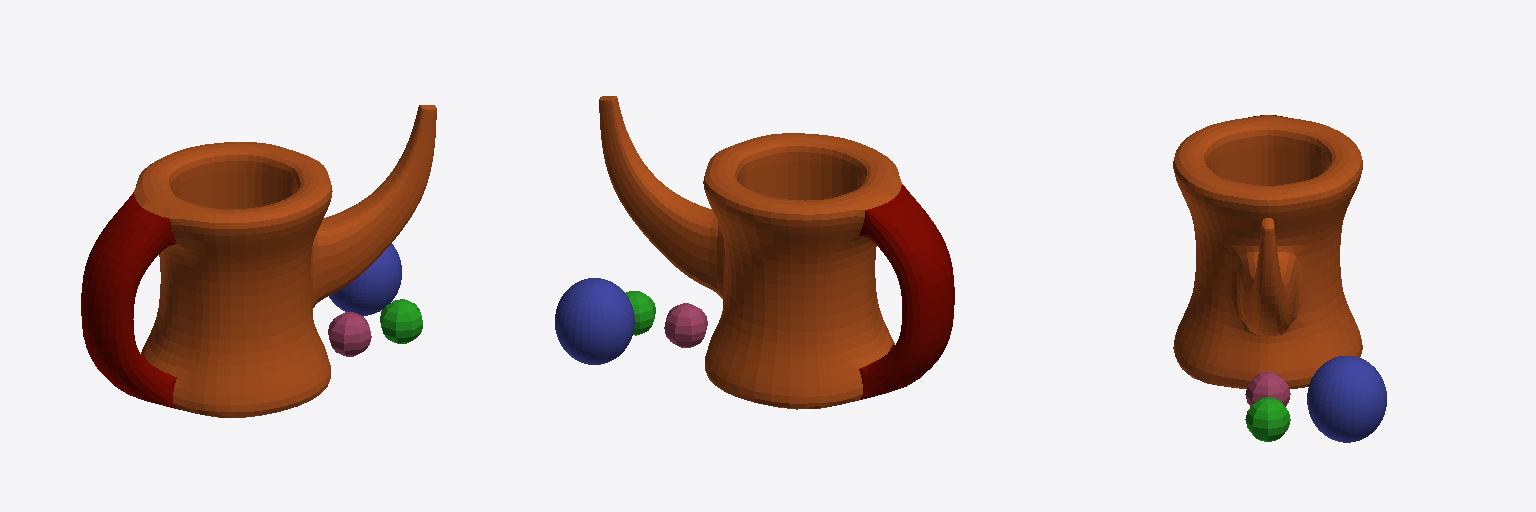
3 renders of one model, left to right at view 1: azimuth 30°, elevation 25°; view 2: azimuth 150°, elevation 25°; view 3: azimuth 270°, elevation 25°, orthographic.
Visible parts, largest first — view 1: Holder_Cylinder, Sphere_3_Sphere.002, Sphere_1_Sphere, Sphere_2_Sphere.001; view 2: Holder_Cylinder, Sphere_3_Sphere.002, Sphere_1_Sphere, Sphere_2_Sphere.001; view 3: Holder_Cylinder, Sphere_3_Sphere.002, Sphere_2_Sphere.001, Sphere_1_Sphere.
Boxes of the visible parts, x1=… form: Holder_Cylinder: x1=81, y1=105, x2=436, y2=417; Sphere_3_Sphere.002: x1=329, y1=243, x2=401, y2=315; Sphere_1_Sphere: x1=328, y1=312, x2=371, y2=356; Sphere_2_Sphere.001: x1=380, y1=299, x2=422, y2=343; Holder_Cylinder: x1=599, y1=96, x2=954, y2=409; Sphere_3_Sphere.002: x1=555, y1=278, x2=634, y2=364; Sphere_1_Sphere: x1=664, y1=303, x2=707, y2=347; Sphere_2_Sphere.001: x1=625, y1=291, x2=655, y2=335; Holder_Cylinder: x1=1173, y1=115, x2=1362, y2=388; Sphere_3_Sphere.002: x1=1307, y1=356, x2=1386, y2=442; Sphere_2_Sphere.001: x1=1245, y1=397, x2=1290, y2=441; Sphere_1_Sphere: x1=1245, y1=372, x2=1290, y2=406.
Bounding box in the file's own units: 3.56 × 2.26 × 1.9.